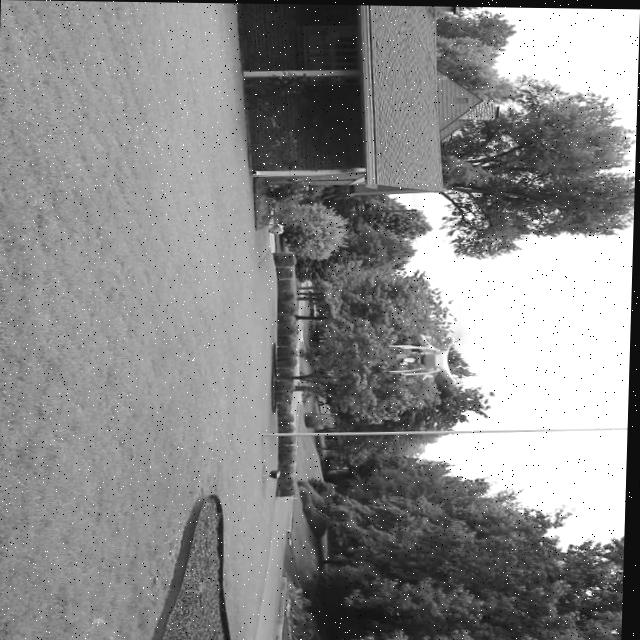drone: (387, 327, 468, 387)
